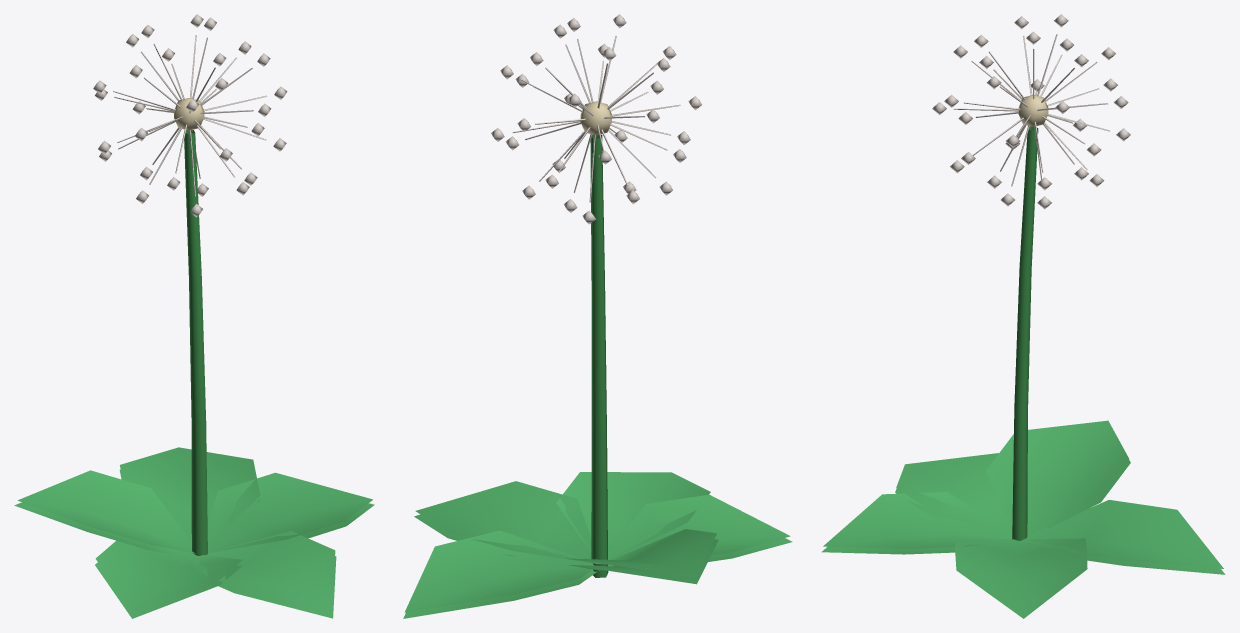
Rendered from col_dandelion_clock.gltf.
The picture shows the model from 3 angles, left to right: view 1: azimuth 30°, elevation 25°; view 2: azimuth 150°, elevation 25°; view 3: azimuth 270°, elevation 25°; orthographic projection. The views are drawn at different scales.
Parts seen in each view (by area): view 1: col_dandelion_clock; view 2: col_dandelion_clock; view 3: col_dandelion_clock.
Part boxes in pixels (left/top/right/bottom): col_dandelion_clock: left=14, top=14, right=374, bottom=618; col_dandelion_clock: left=403, top=14, right=792, bottom=618; col_dandelion_clock: left=821, top=14, right=1225, bottom=618.
Size of what is drawn, in the model's own units: 0.1702 by 0.2759 by 0.1923.
